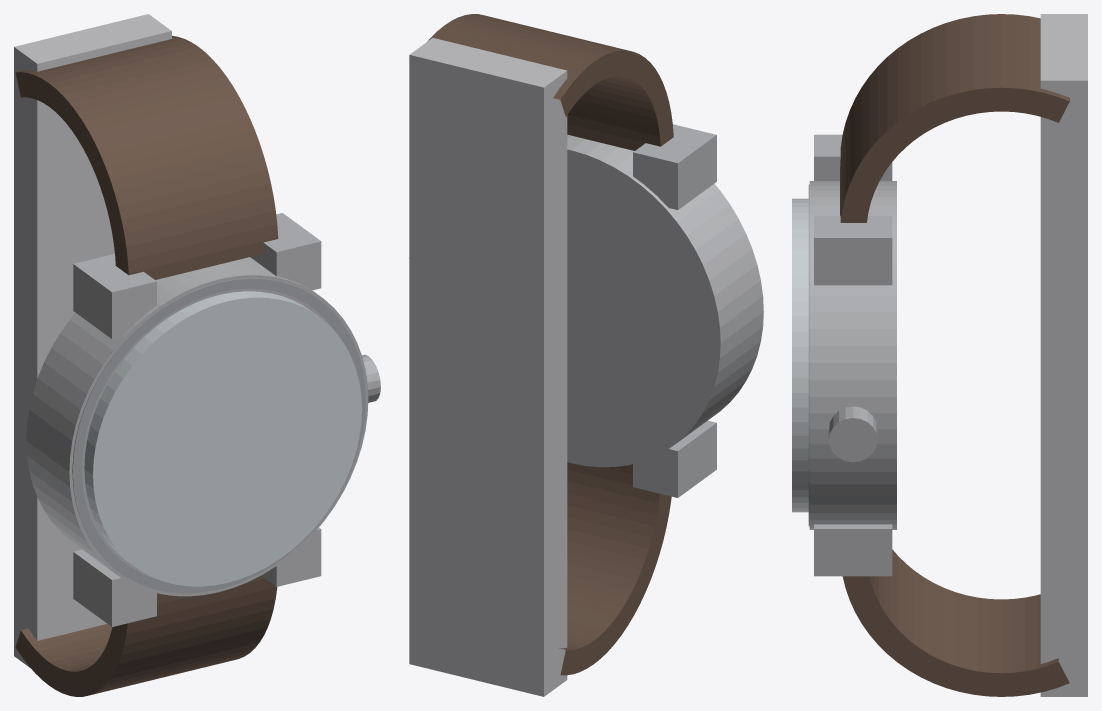
Rendered from watch_reference.glb.
3 views of the same model, side by side, from view 1: azimuth 30°, elevation 25°; view 2: azimuth 150°, elevation 25°; view 3: azimuth 270°, elevation 25° (orthographic).
Parts seen in each view (by area): view 1: Crystal, StrapTop, Buckle, Case, StrapBottom, Bezel, Lug1, Lug3, Lug0, Lug2, Crown; view 2: Buckle, Case, StrapBottom, StrapTop, Lug1, Lug3; view 3: Buckle, StrapTop, Case, StrapBottom, Lug0, Crystal, Lug2, Crown, Lug1, Bezel.
Part boxes in pixels (x1,y1,x2,y2): Crystal: [84, 291, 361, 586]; StrapTop: [15, 35, 278, 279]; Buckle: [14, 14, 171, 667]; Case: [26, 257, 368, 596]; StrapBottom: [15, 574, 277, 696]; Bezel: [72, 278, 365, 593]; Lug1: [73, 254, 156, 339]; Lug3: [73, 549, 156, 626]; Lug0: [250, 213, 321, 290]; Lug2: [263, 527, 321, 586]; Crown: [362, 354, 380, 402]; Buckle: [409, 38, 567, 696]; Case: [567, 134, 763, 467]; StrapBottom: [559, 462, 671, 675]; StrapTop: [427, 14, 673, 150]; Lug1: [633, 124, 716, 209]; Lug3: [633, 420, 716, 497]; Buckle: [1040, 14, 1087, 696]; StrapTop: [840, 14, 1069, 222]; Case: [809, 181, 896, 529]; StrapBottom: [842, 549, 1069, 696]; Lug0: [814, 215, 892, 285]; Crystal: [792, 198, 808, 512]; Lug2: [814, 524, 892, 576]; Crown: [828, 406, 877, 462]; Lug1: [814, 134, 892, 180]; Bezel: [808, 184, 809, 526].
Size of the model in its own units: 0.0429 by 0.0779 by 0.0339.
